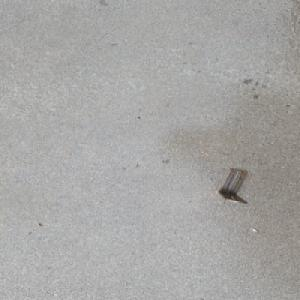MetalPart: (217, 168, 249, 204)
